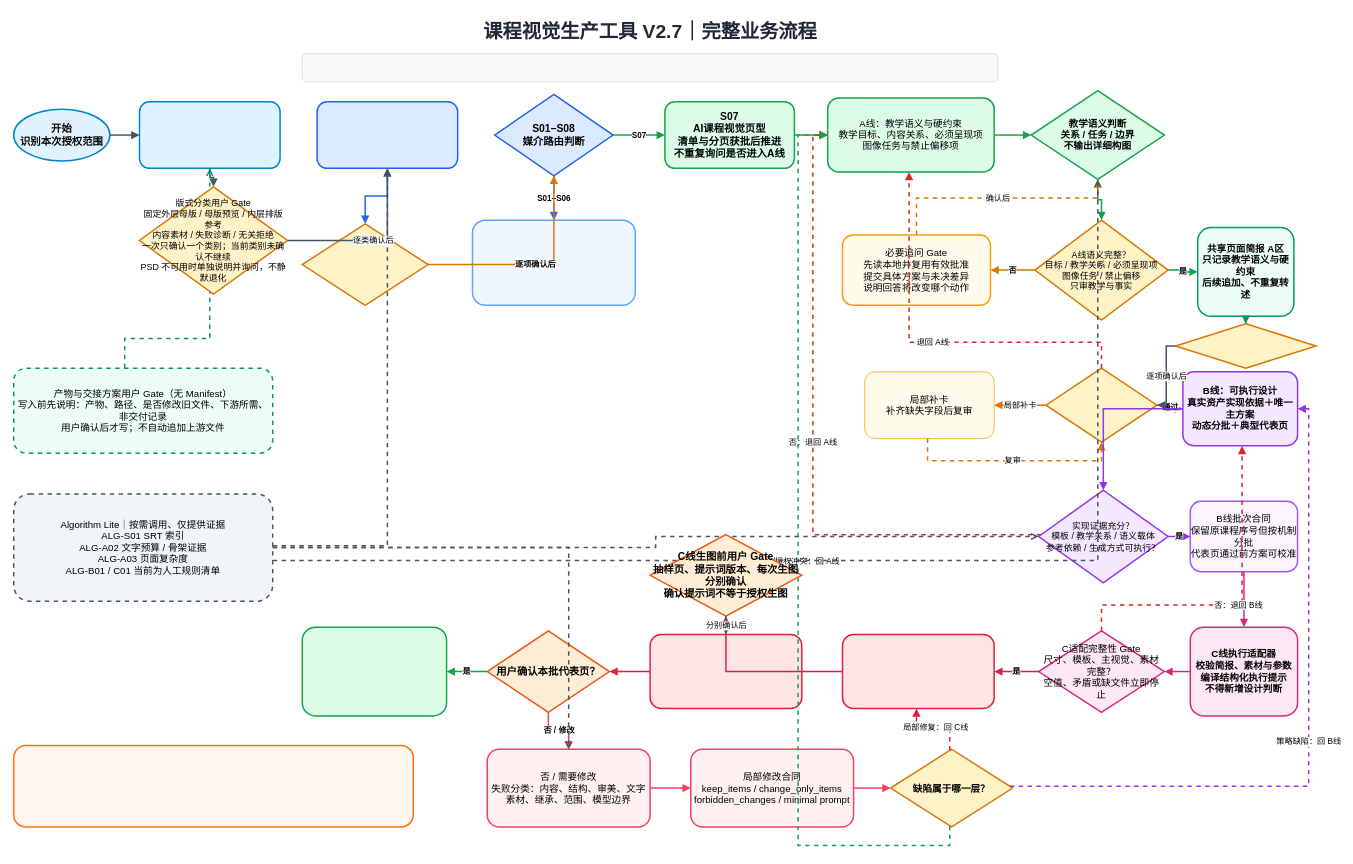
The diagram is 1353 pixels wide and 864 high, and some of its shapes have lost their labels. Here are the shapes that lost their labels. From the top down, the centre of each, then its label:
At (650,67): "实线：主生产流程 虚线：辅助证据或回退 菱形：Gate / 判断 所有用户 Gate 一次只问一个问题".
At (209,135): "输入证据读取与分类 先核对源文 / 事实 / 素材 B线设计前核验版式母版 按六类记录模板/参考角色".
At (387,135): "S线：读取内容与语义合并 保留时间范围与来源行 不按字幕句逐页切分".
At (364,264): "S线实质 Gate 时间证据仅在业务必需时补充 先复用处理范围与Non-A批准 无新歧义：路由清单随分页审阅 未批准分页不得冻结".
At (553,262): "S01–S06 有效的非 A线生产路线 教师出镜 / 现成素材 / 录屏 字幕标注与后期包装".
At (1245,346): "A线语义用户 Gate 逐项确认；一次一个问题 全部确认后才冻结".
At (1101,405): "A审质量 Gate".
At (374,671): "是 冻结本批执行合同 扩展其余页面 最后按课程序号组装".
At (725,671): "生图执行 先生成代表页；确认后扩展本批 批内只携带必要上下文".
At (918,671): "批次代表页校准 每批独立上下文 说明风险、固定项与可变项".
At (213,785): "硬性禁止 不使用哈希方案｜不自动追加上游文件 不把建议当确认｜不代替用户冻结设计方向".
